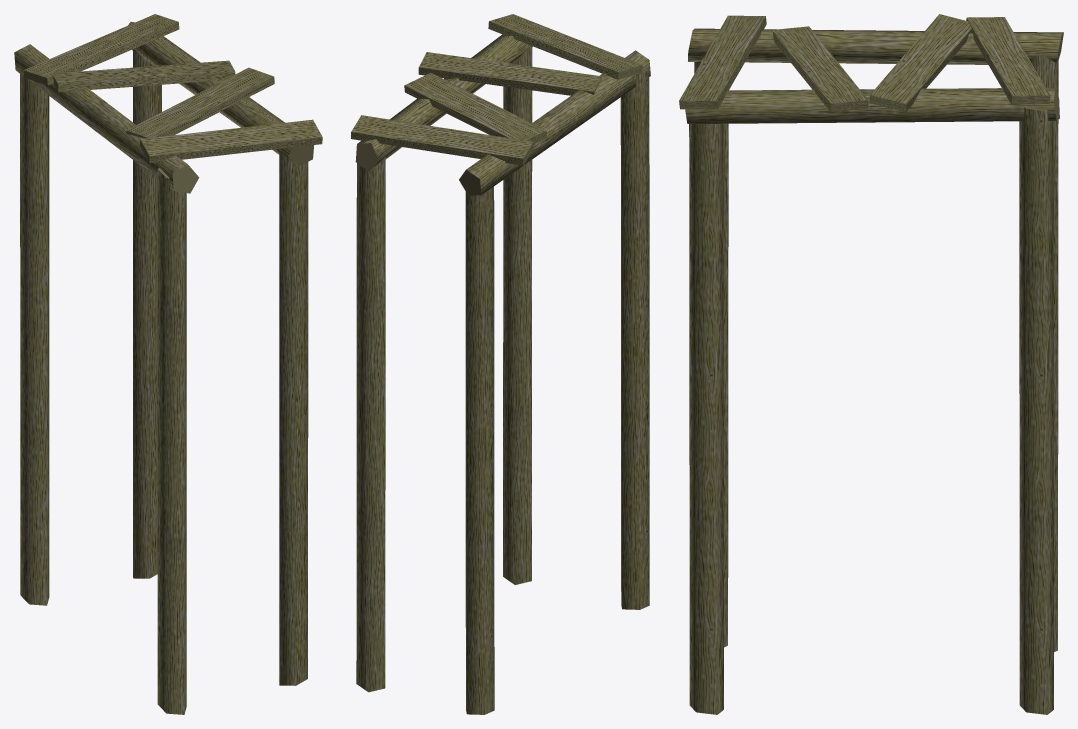
File: jetty03.obj
The picture shows the model from 3 angles, left to right: view 1: azimuth 30°, elevation 25°; view 2: azimuth 150°, elevation 25°; view 3: azimuth 270°, elevation 25°; orthographic projection. The views are drawn at different scales.
Parts seen in each view (by area): view 1: Duplicate03, Duplicate02, Duplicate01, Duplicate10, Duplicate08, Box01, Duplicate05, Cylinder02; view 2: Duplicate03, Duplicate01, Duplicate02, Box01, Duplicate08, Duplicate05, Duplicate10, Cylinder02; view 3: Duplicate01, Duplicate02, Duplicate03, Cylinder02, Duplicate05, Duplicate10, Duplicate08, Box01.
Part boxes in pixels (box(x1,y1,x2,y2)): Duplicate03: box(14, 44, 199, 714); Duplicate02: box(279, 150, 308, 685); Duplicate01: box(133, 49, 161, 578); Duplicate10: box(140, 119, 322, 163); Duplicate08: box(126, 67, 274, 138); Box01: box(23, 14, 179, 85); Duplicate05: box(53, 60, 235, 92); Cylinder02: box(128, 22, 313, 166); Duplicate03: box(459, 50, 650, 714); Duplicate01: box(356, 157, 385, 692); Duplicate02: box(503, 45, 532, 584); Box01: box(351, 115, 533, 165); Duplicate08: box(418, 52, 601, 95); Duplicate05: box(404, 73, 547, 143); Duplicate10: box(488, 14, 642, 79); Cylinder02: box(355, 34, 532, 171); Duplicate01: box(1019, 107, 1053, 714); Duplicate02: box(689, 123, 723, 714); Duplicate03: box(688, 28, 1063, 651); Cylinder02: box(685, 87, 1059, 123); Duplicate05: box(869, 14, 971, 112); Duplicate10: box(679, 15, 766, 109); Duplicate08: box(771, 26, 868, 112); Box01: box(966, 17, 1050, 104).
Bounding box in the file's own units: 52.15 × 160 × 88.63.
